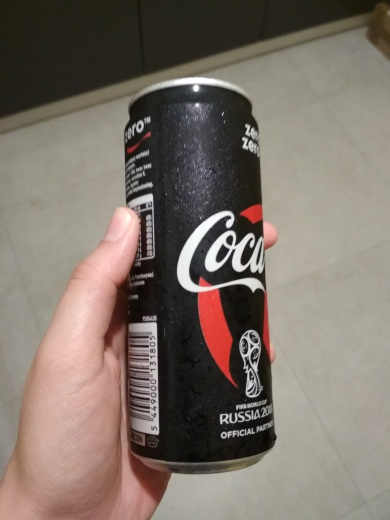colazero: (112, 73, 284, 476)
